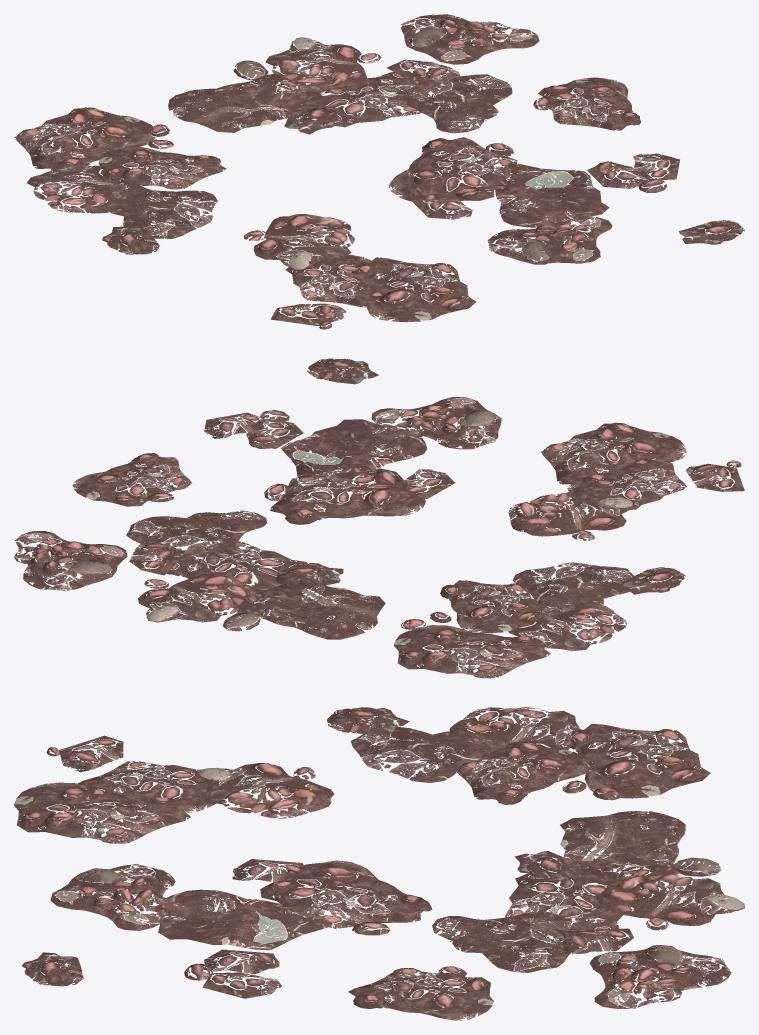
The picture shows the model from 3 angles, top to bottom: view 1: azimuth 30°, elevation 25°; view 2: azimuth 150°, elevation 25°; view 3: azimuth 270°, elevation 25°; orthographic projection. The views are drawn at different scales.
Parts seen in each view (by area): view 1: SM_Planter_RegularCompost_01_LOD0; view 2: SM_Planter_RegularCompost_01_LOD0; view 3: SM_Planter_RegularCompost_01_LOD0.
Boxes of the visible parts, <box> form: SM_Planter_RegularCompost_01_LOD0: <box>14,14,744,329</box>; SM_Planter_RegularCompost_01_LOD0: <box>14,358,744,678</box>; SM_Planter_RegularCompost_01_LOD0: <box>14,707,744,1020</box>.
Size of the model in its own units: 2.79 by 0.0756 by 2.76.
1 material, 1 textured.
